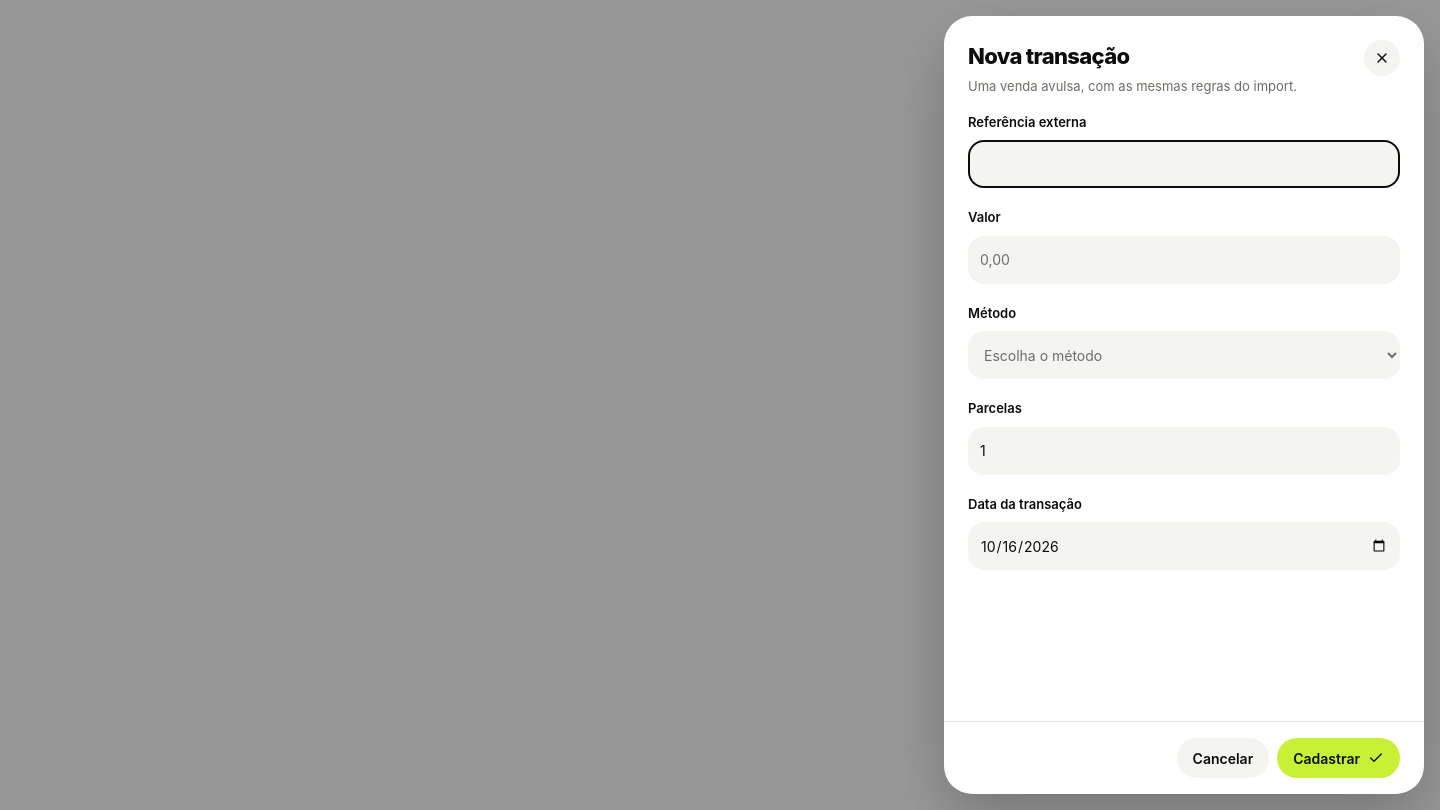
it: TransactionDrawer › PIX fixa Parcelas em 1 e desabilita o campo (TXN-05)
Step 1. Select "Crédito" in the dropdown labelled "Método" → (1184, 355), box x1=968 y1=331 x2=1400 y2=379
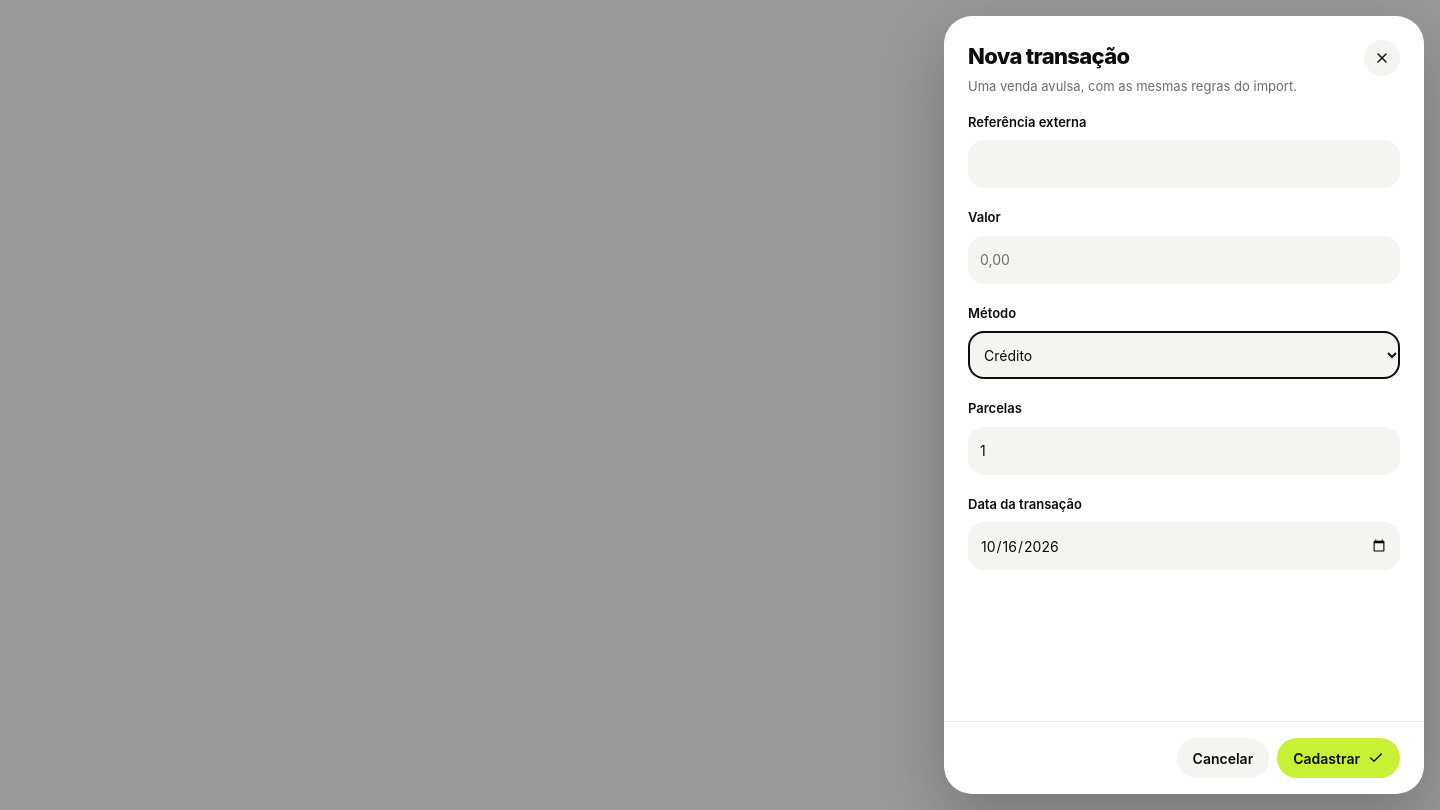
Step 2. Replace the text in the field labelled "Parcelas" with "3" → (1184, 450), box x1=968 y1=426 x2=1400 y2=474
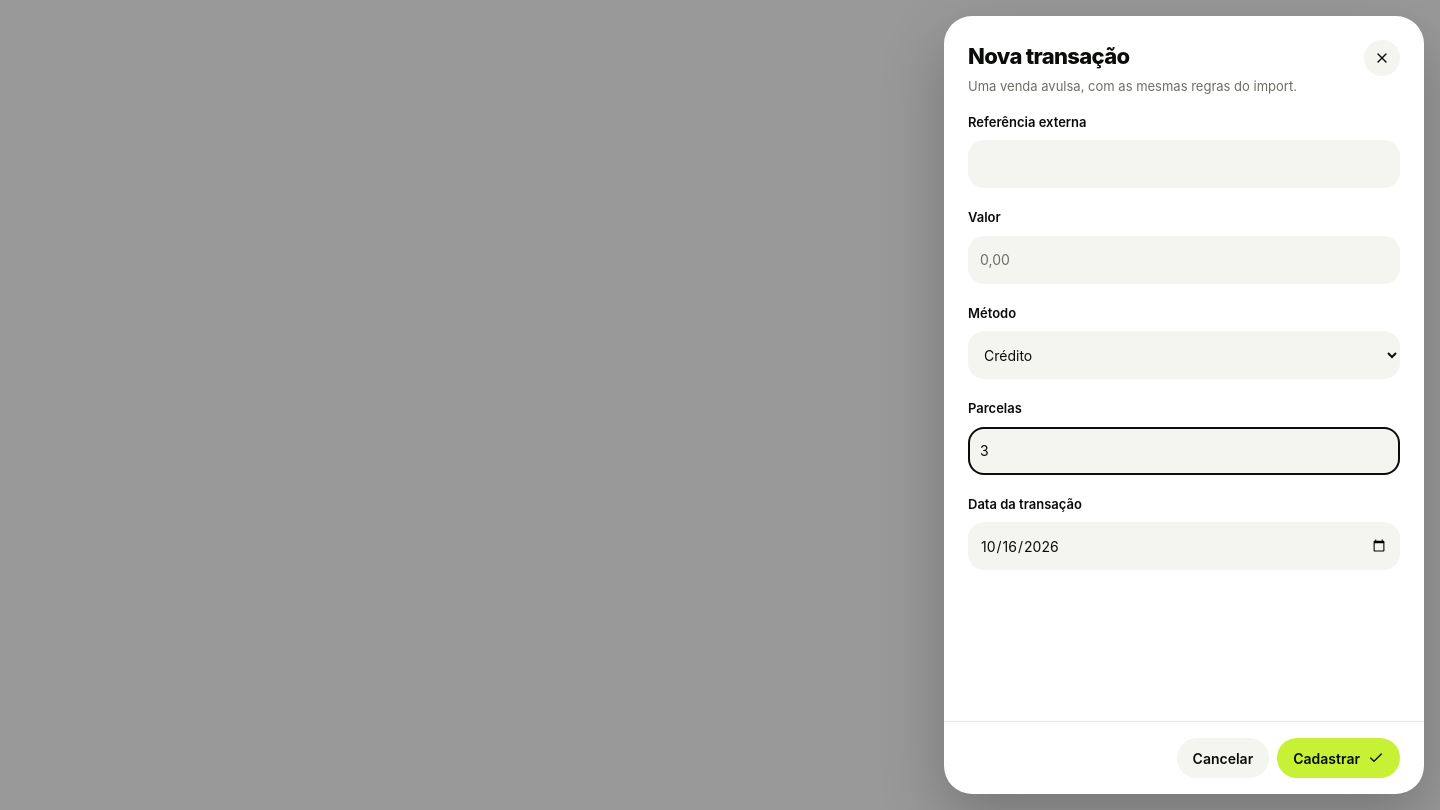
Step 3. Select "Pix" in the dropdown labelled "Método" → (1184, 355), box x1=968 y1=331 x2=1400 y2=379
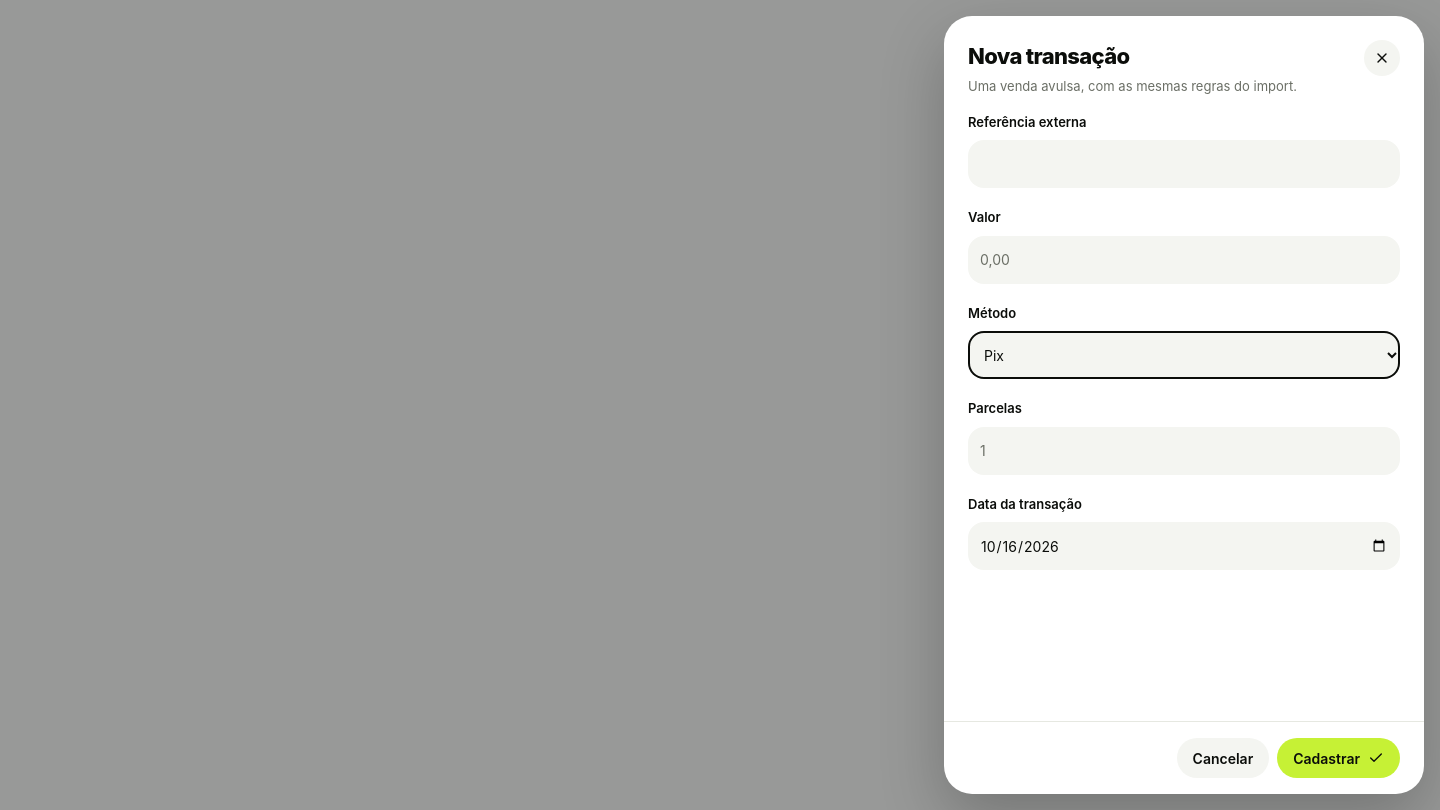
expect the field labelled "Parcelas" holds "1": met, box x1=968 y1=426 x2=1400 y2=474
expect the field labelled "Parcelas" is disabled: met, box x1=968 y1=426 x2=1400 y2=474
